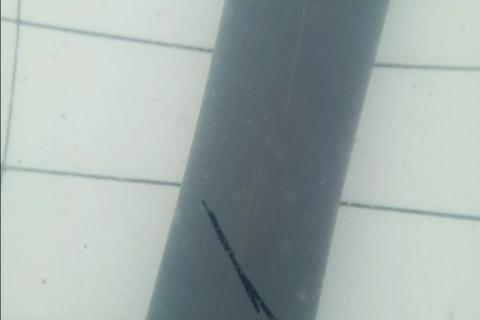keretakan: (201, 198, 276, 320)
